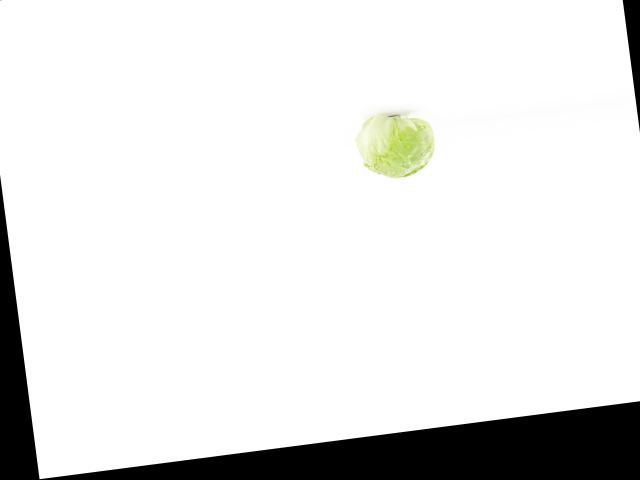lettuce: (352, 111, 448, 185)
